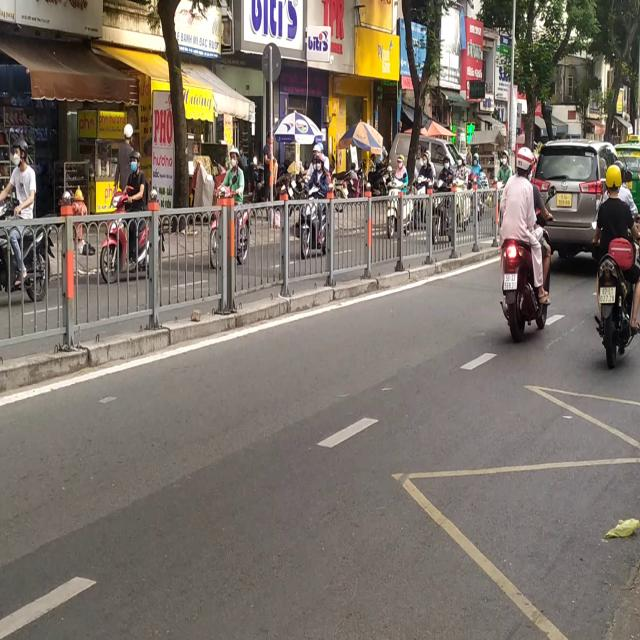bien_trang: (599, 286, 616, 304), (504, 274, 516, 290)
bien_vang: (556, 192, 572, 208)
